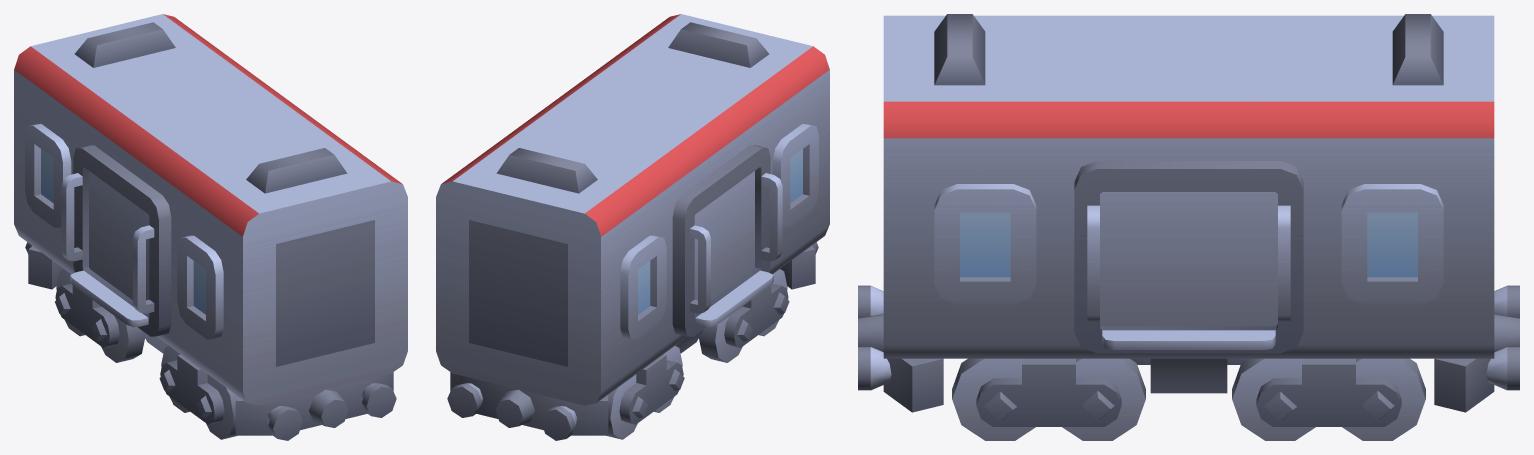
File: train-subwayC.glb
The picture shows the model from 3 angles, left to right: view 1: azimuth 30°, elevation 25°; view 2: azimuth 150°, elevation 25°; view 3: azimuth 270°, elevation 25°; orthographic projection. The views are drawn at different scales.
Parts seen in each view (by area): view 1: train-electric-subway-c; view 2: train-electric-subway-c; view 3: train-electric-subway-c.
Part boxes in pixels (box(x1,y1,x2,y2)): train-electric-subway-c: box(14, 14, 407, 440); train-electric-subway-c: box(436, 14, 829, 440); train-electric-subway-c: box(858, 14, 1519, 440).
Bounding box in the file's own units: 1.35 × 1.57 × 2.6.
Materials: 1 (1 with a texture image).
